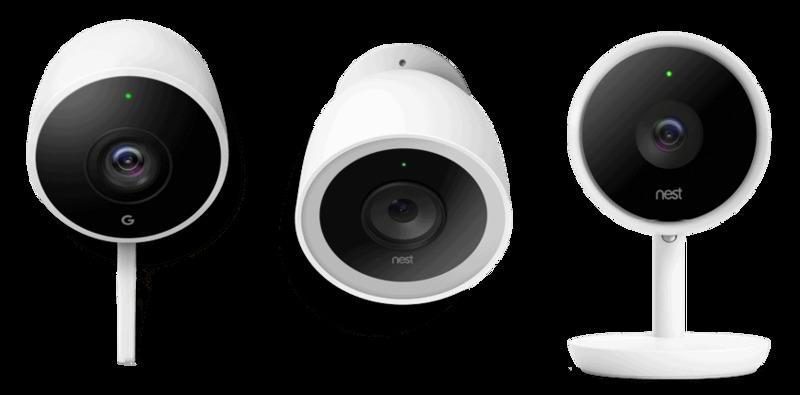nest: (292, 33, 518, 305), (32, 22, 231, 243), (561, 36, 775, 232)
